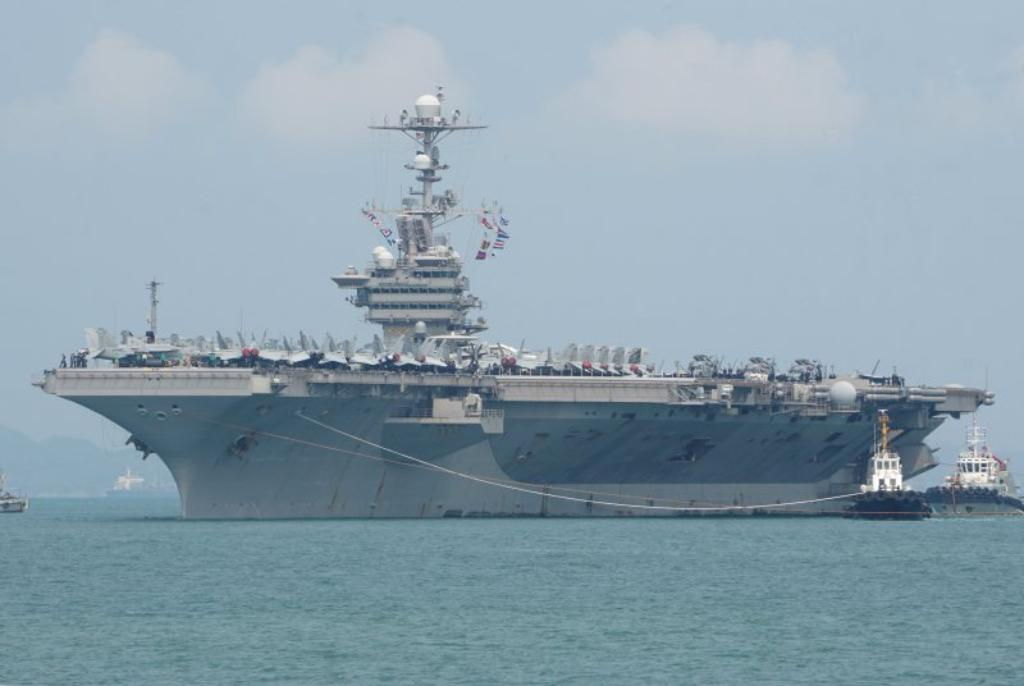Warship: (20, 73, 998, 529)
